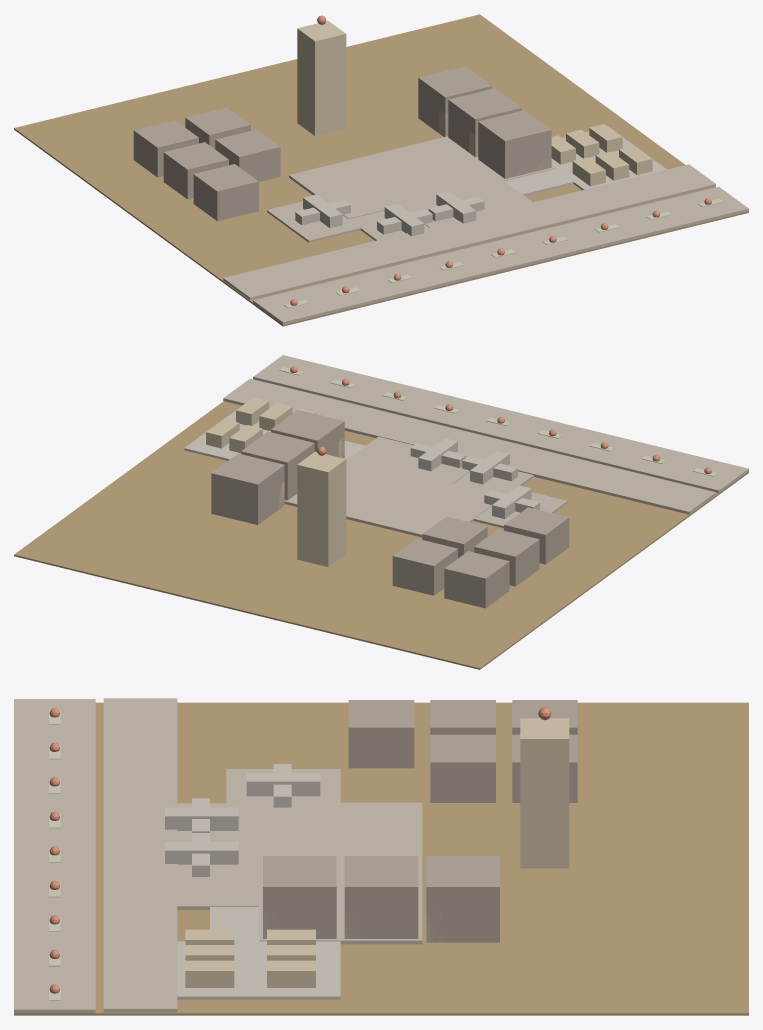
Rendered from stage_20.glb.
3 renders of one model, top to bottom at view 1: azimuth 30°, elevation 25°; view 2: azimuth 150°, elevation 25°; view 3: azimuth 270°, elevation 25°, orthographic. The views are drawn at different scales.
Visible parts, largest first — view 1: geometry_0; view 2: geometry_0; view 3: geometry_0.
Part boxes in pixels (x1=…): geometry_0: x1=14, y1=14, x2=748, y2=326; geometry_0: x1=14, y1=355, x2=748, y2=669; geometry_0: x1=14, y1=698, x2=748, y2=1015.
Bounding box in the file's own units: 9 × 2.06 × 9.
